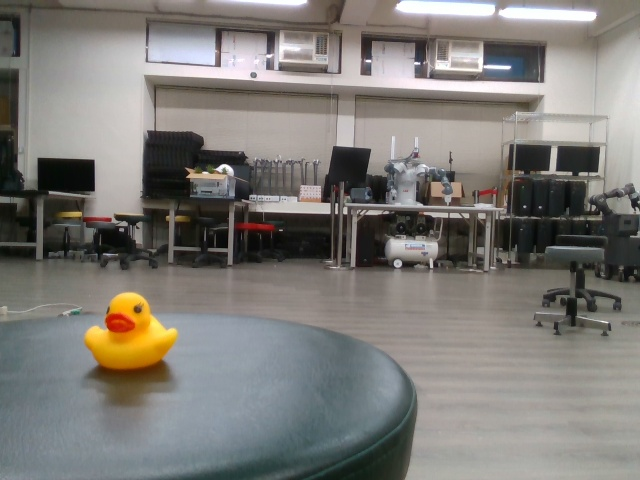duck: (83, 289, 180, 372)
